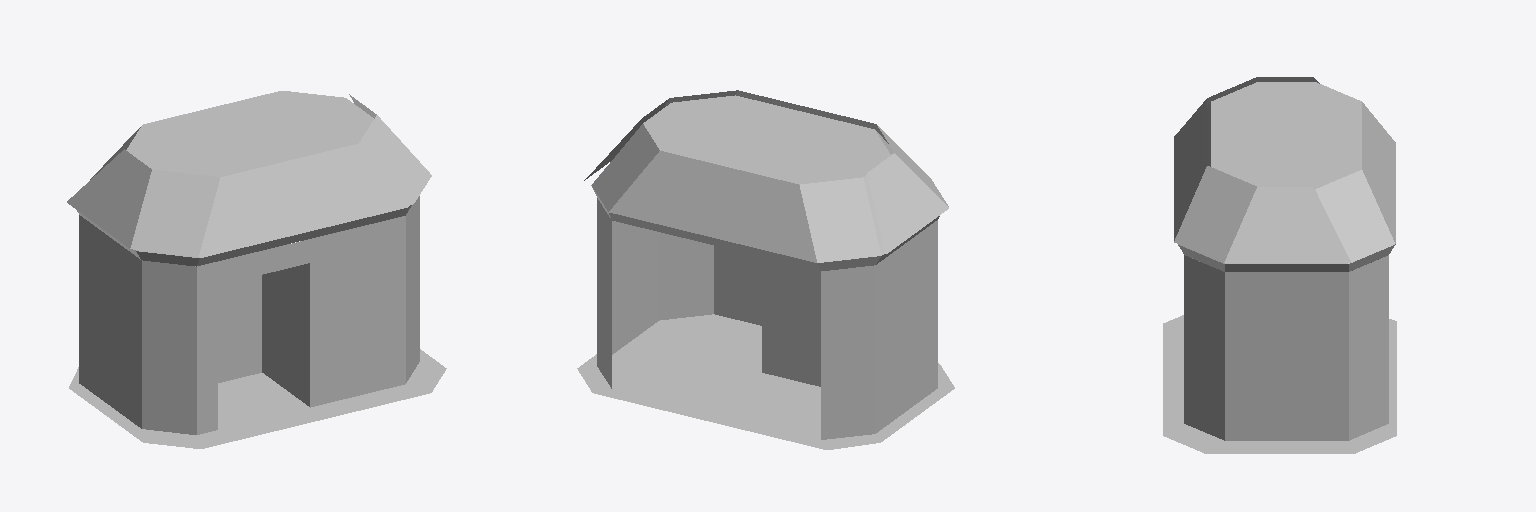
Rendered from Poké Mart.obj.
3 renders of one model, left to right at view 1: azimuth 30°, elevation 25°; view 2: azimuth 150°, elevation 25°; view 3: azimuth 270°, elevation 25°, orthographic.
Parts seen in each view (by area): view 1: polygon3, polygon1, polygon2, polygon0; view 2: polygon3, polygon2, polygon0, polygon1; view 3: polygon3, polygon2, polygon1, polygon0.
Part boxes in pixels (x1,y1,x2,y2): polygon3: (79,196,419,434); polygon1: (67,94,431,256); polygon2: (77,91,411,266); polygon0: (69,349,446,448); polygon3: (597,198,937,439); polygon2: (591,95,939,270); polygon0: (577,314,954,449); polygon1: (584,90,948,253); polygon3: (1184,255,1388,440); polygon2: (1178,82,1395,271); polygon1: (1174,77,1351,262); polygon0: (1163,315,1396,453).
Size of the model in its own units: 66.79 by 51.01 by 44.